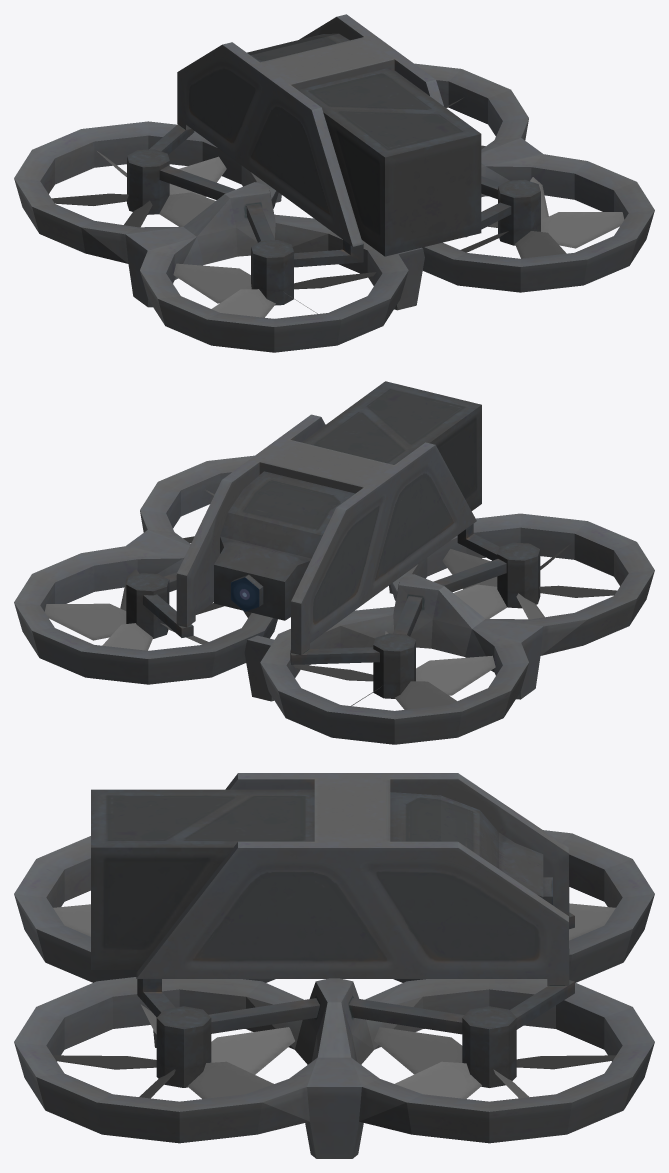
File: P_UAV_001_S1_M01.obj
3 views of the same model, one above another, from view 1: azimuth 30°, elevation 25°; view 2: azimuth 150°, elevation 25°; view 3: azimuth 270°, elevation 25° (orthographic). The views are drawn at different scales.
Bounding box in the file's own units: 0.6354 × 0.2388 × 0.5979.
Materials: 1 (1 with a texture image).
